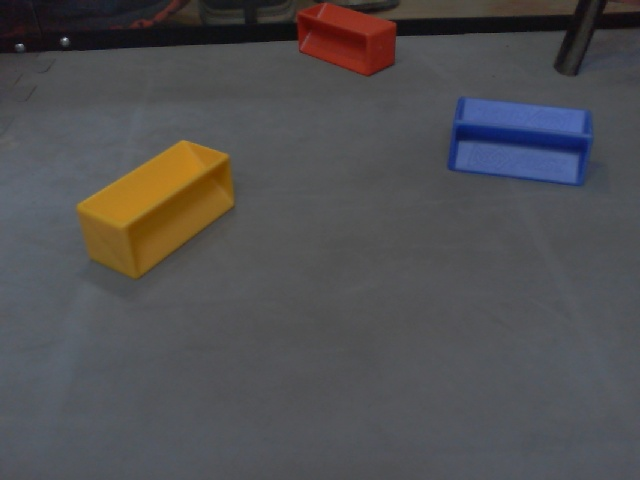BlueSample: (444, 96, 594, 186)
RedSample: (289, 3, 401, 78)
YellowSample: (73, 134, 237, 282)
